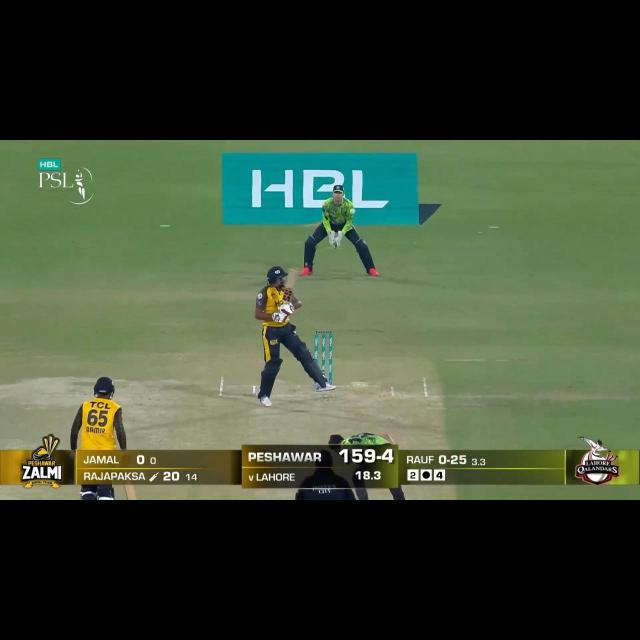bat: (281, 268, 301, 304)
toe: (124, 484, 138, 501), (289, 269, 301, 278)
